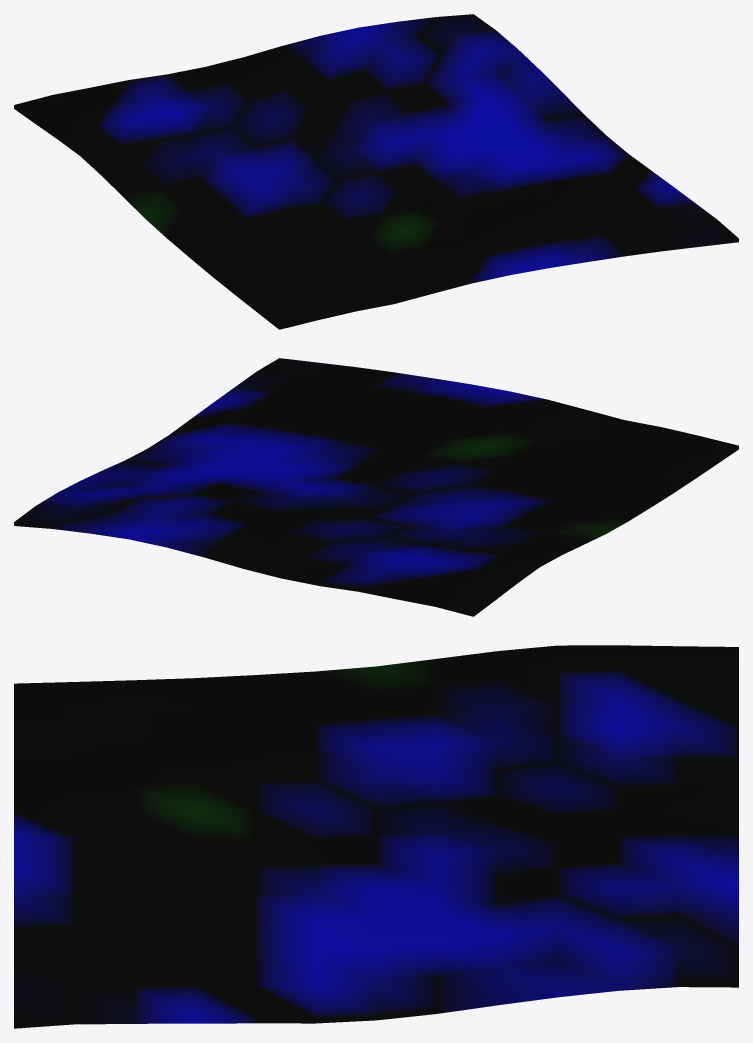
Rendered from coast_23_2.glb.
The picture shows the model from 3 angles, top to bottom: view 1: azimuth 30°, elevation 25°; view 2: azimuth 150°, elevation 25°; view 3: azimuth 270°, elevation 25°; orthographic projection. The views are drawn at different scales.
Visible parts, largest first — view 1: terrain; view 2: terrain; view 3: terrain.
Boxes of the visible parts, box(x1,y1,x2,y2) form: terrain: box(14, 14, 738, 329); terrain: box(14, 358, 738, 616); terrain: box(14, 645, 738, 1028).
Bounding box in the file's own units: 192 × 22.65 × 192.
